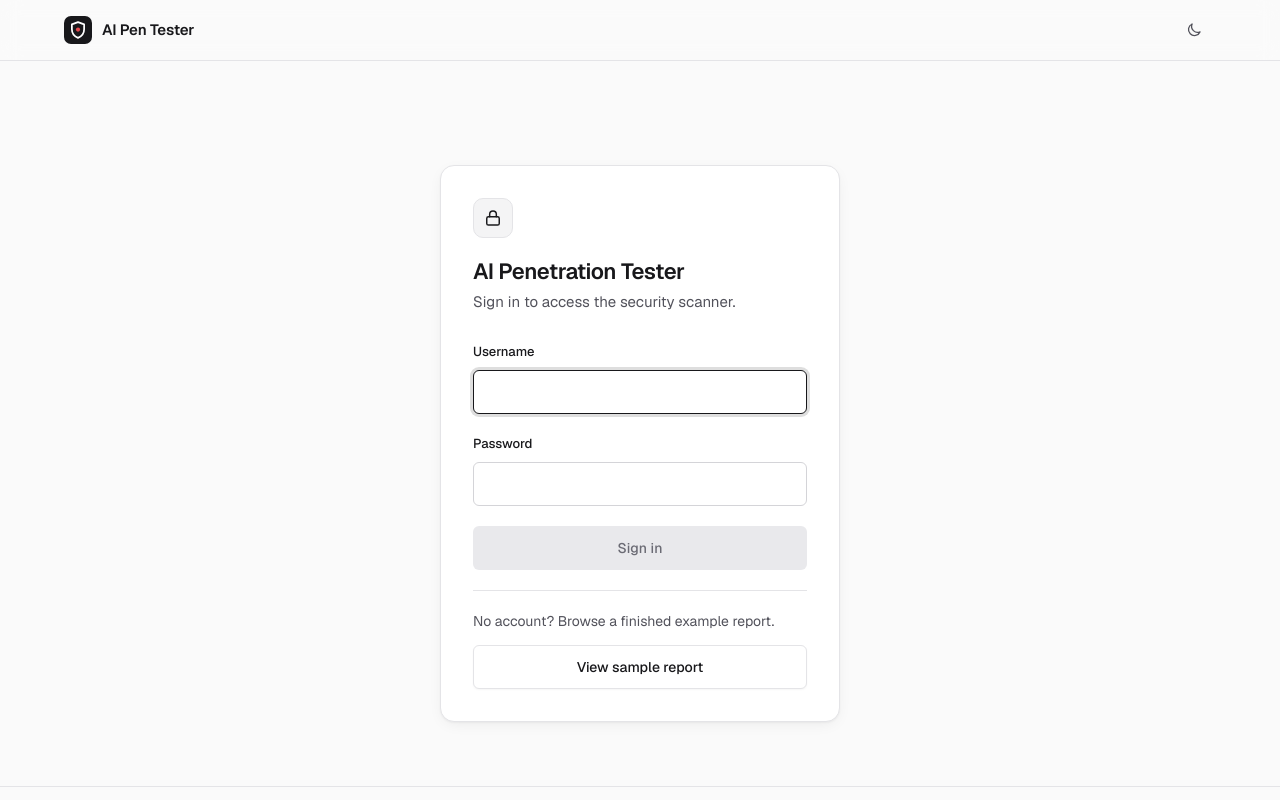
Test: login gate › logs in with the right password and reveals the app
In the field labelled "Username": [640, 392] box [473, 370, 807, 414], type "recruiter"
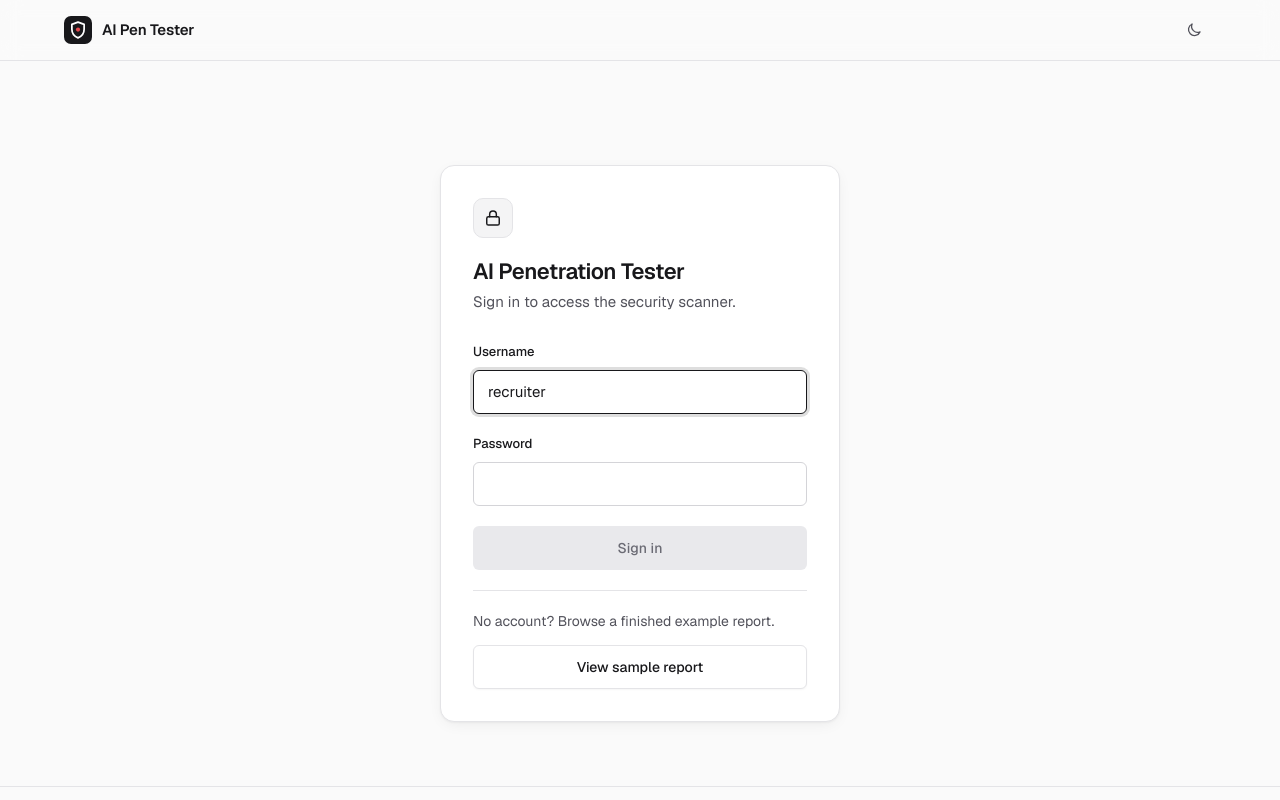
In the password field labelled "Password": [640, 484] box [473, 462, 807, 506], type "right"
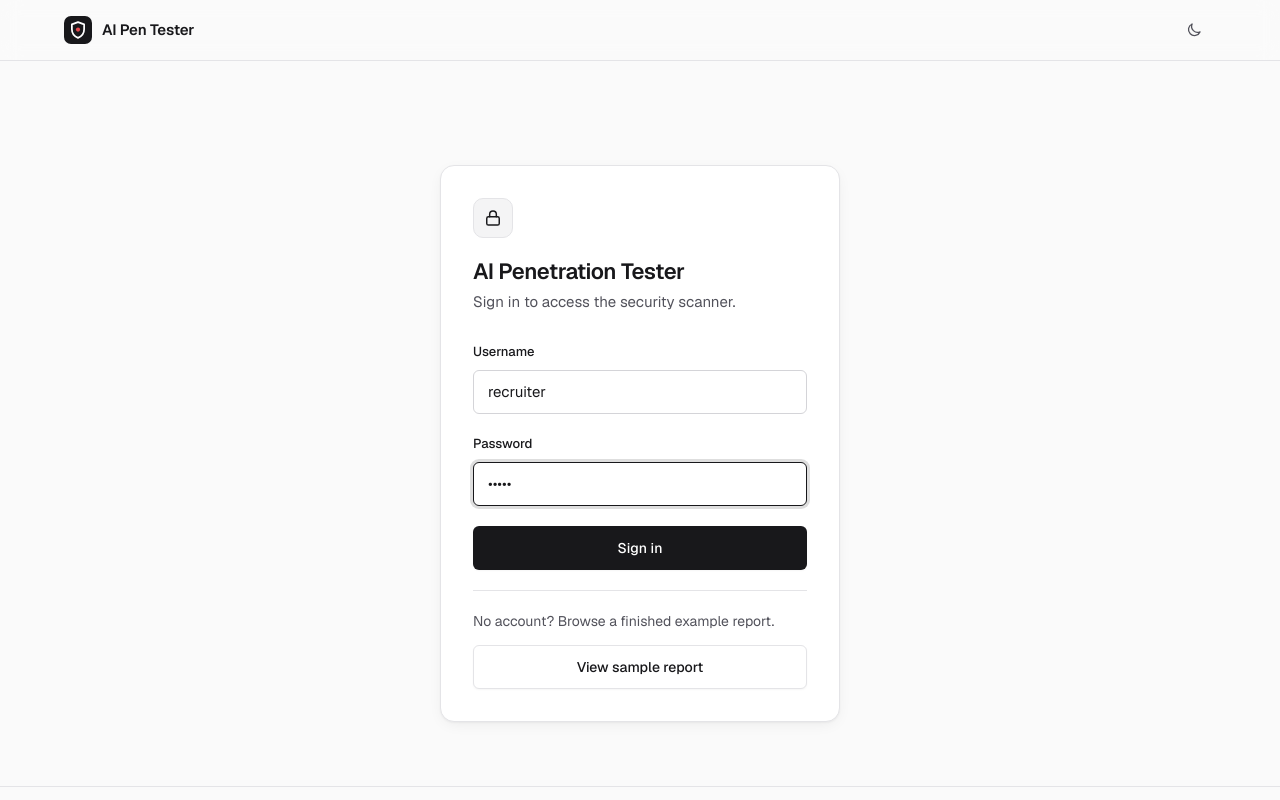
Click the button "Sign in": [640, 548] box [473, 526, 807, 570]
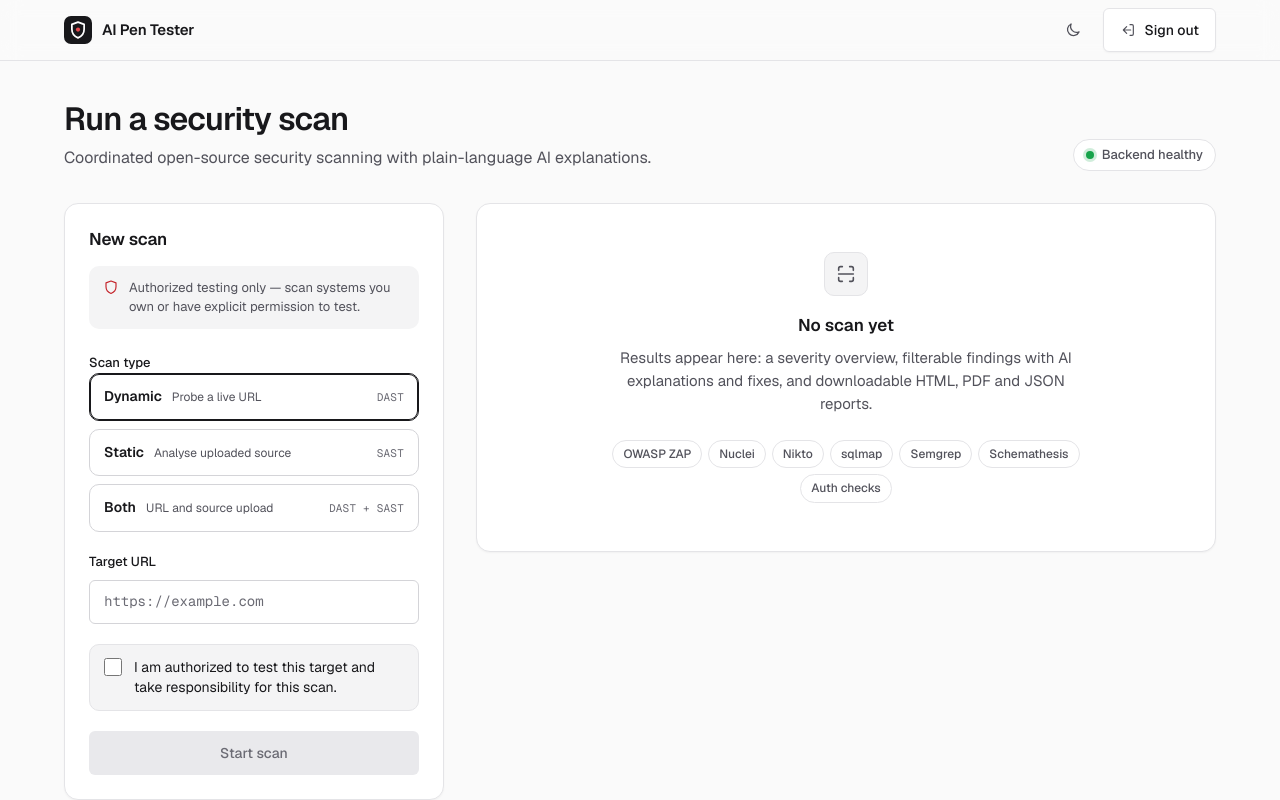
Result: the text "backend healthy" is shown at [1102, 144, 1203, 165]
